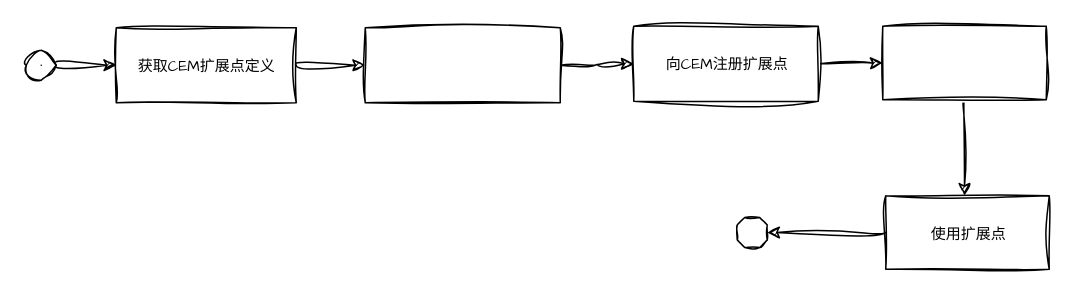
Some shapes in this 1076 by 296 pixel diagram are drawn without their labels. Here are the shapes that lost their labels. From the top down, the centre of each, then its label:
point (462, 64): 编写业务逻辑
point (963, 62): 编写固定接口
